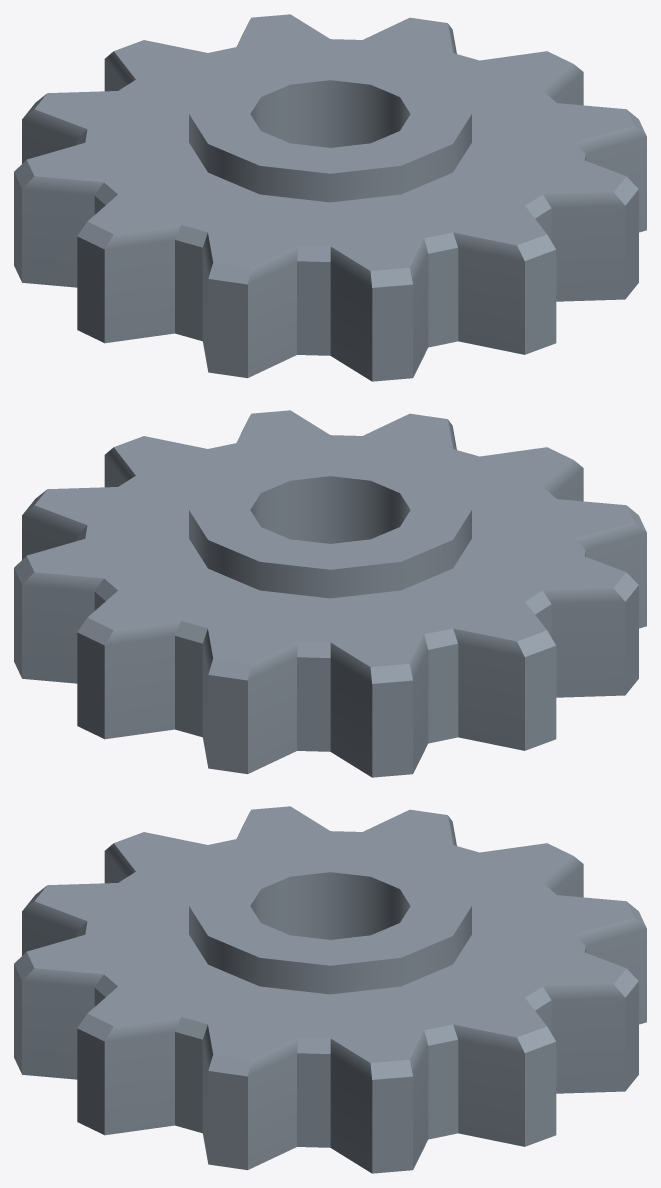
The model's file is SM_SpurGear.fbx.
The picture shows the model from 3 angles, top to bottom: view 1: azimuth 30°, elevation 25°; view 2: azimuth 150°, elevation 25°; view 3: azimuth 270°, elevation 25°; orthographic projection.
Parts seen in each view (by area): view 1: SM_SpurGear; view 2: SM_SpurGear; view 3: SM_SpurGear.
Boxes of the visible parts, box(x1,y1,x2,y2) form: SM_SpurGear: box(14, 14, 646, 381); SM_SpurGear: box(14, 410, 646, 777); SM_SpurGear: box(14, 806, 646, 1173).
Size of the model in its own units: 3 by 3 by 0.86.
